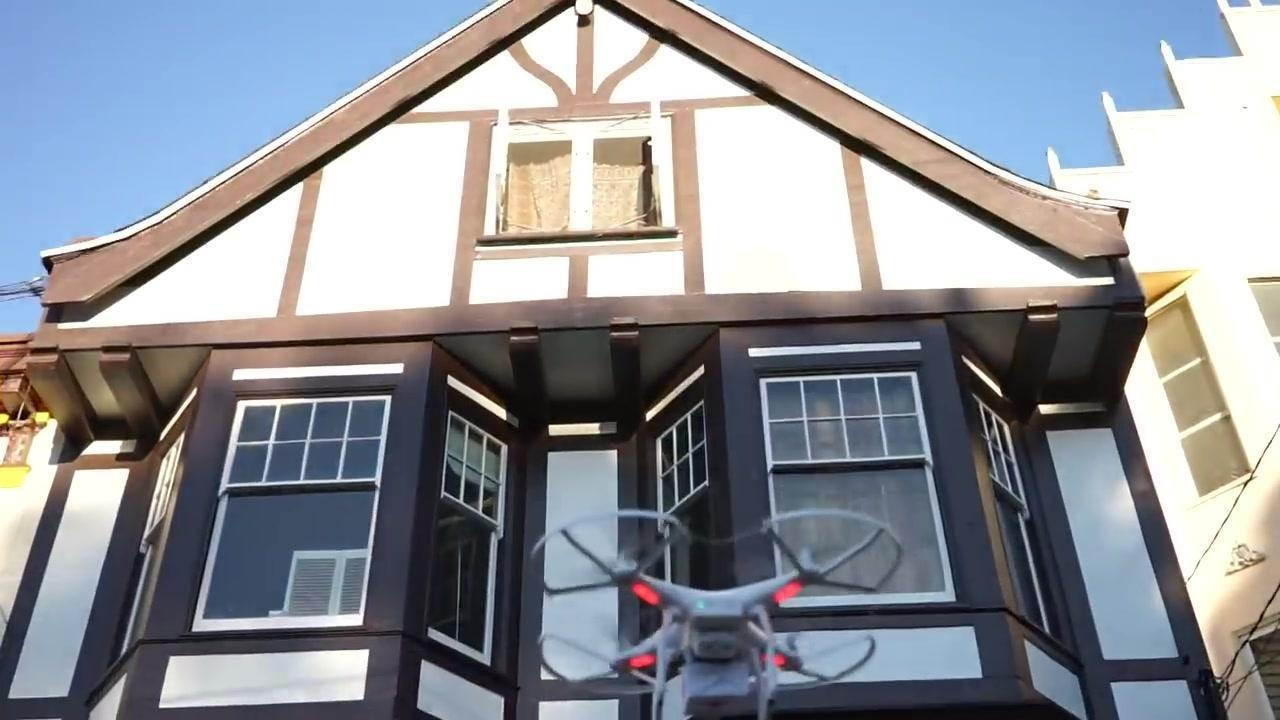UAV: (529, 510, 905, 720)
